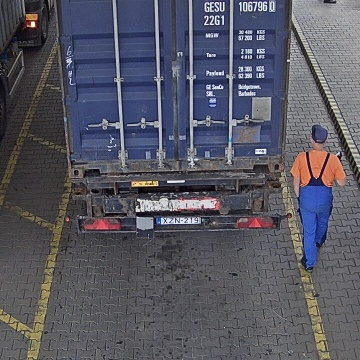serial_id: (204, 0, 275, 11)
